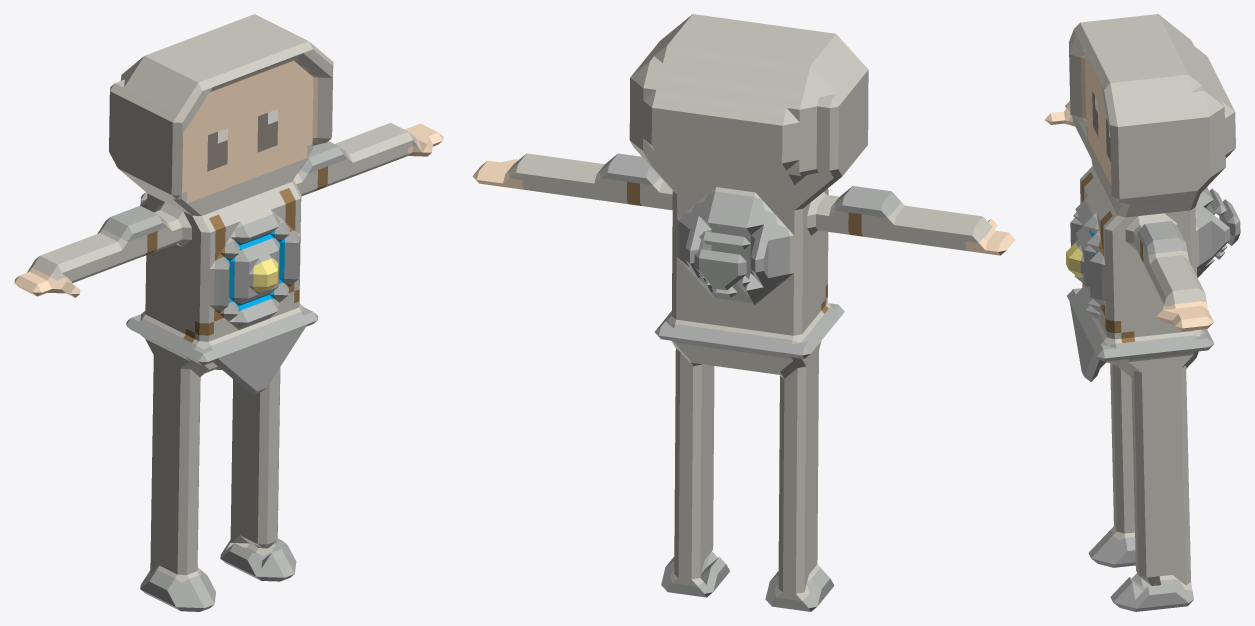
The model's file is KnightNoSwoMII.fbx.
3 renders of one model, left to right at view 1: azimuth 30°, elevation 25°; view 2: azimuth 150°, elevation 25°; view 3: azimuth 270°, elevation 25°, orthographic. The views are drawn at different scales.
Parts seen in each view (by area): view 1: Object.1; view 2: Object.1, Object.5; view 3: Object.1, Object.5.
Part boxes in pixels (x1,y1,x2,y2): Object.1: (14,14,443,611); Object.1: (472,14,1015,611); Object.5: (694,249,746,290); Object.1: (1044,14,1235,611); Object.5: (1219,199,1240,245).
Size of the model in its own units: 352 by 383 by 128.
